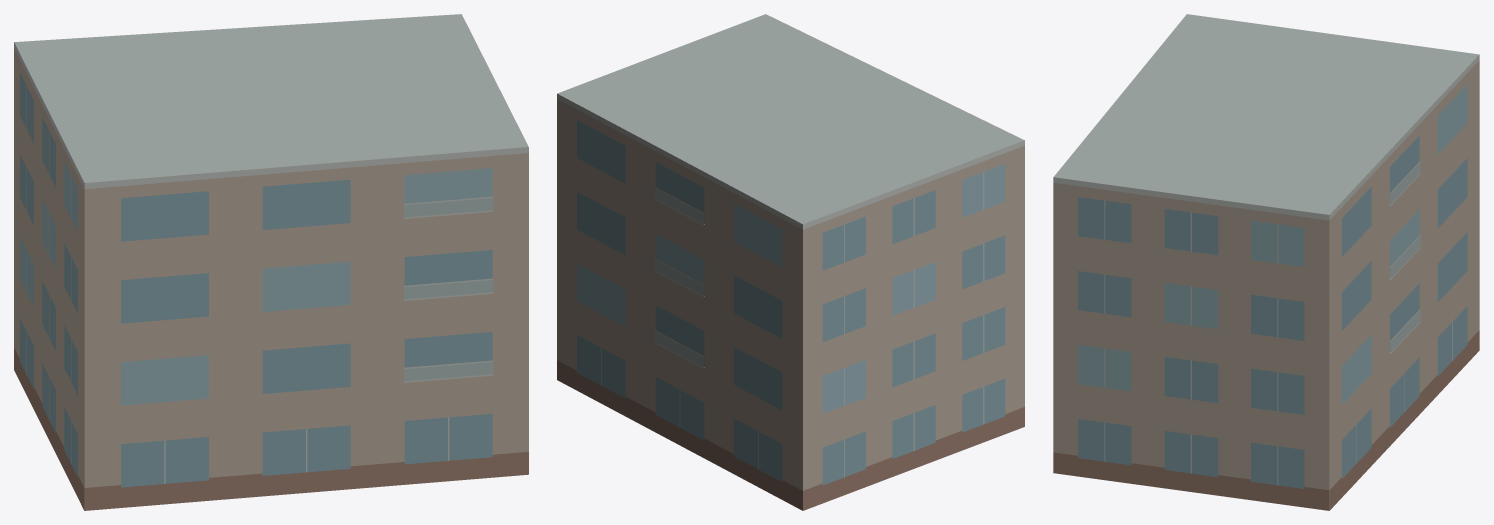
Rendered from survey-upis-32601720.glb.
3 renders of one model, left to right at view 1: azimuth 30°, elevation 25°; view 2: azimuth 150°, elevation 25°; view 3: azimuth 270°, elevation 25°, orthographic. The views are drawn at different scales.
Parts seen in each view (by area): view 1: survey-upis-32601720.tmp; view 2: survey-upis-32601720.tmp; view 3: survey-upis-32601720.tmp.
Part boxes in pixels (x1,y1,x2,y2): survey-upis-32601720.tmp: (14, 14, 528, 510); survey-upis-32601720.tmp: (557, 14, 1024, 510); survey-upis-32601720.tmp: (1053, 14, 1479, 510).
Size of the model in its own units: 19.24 by 13.2 by 17.24.
